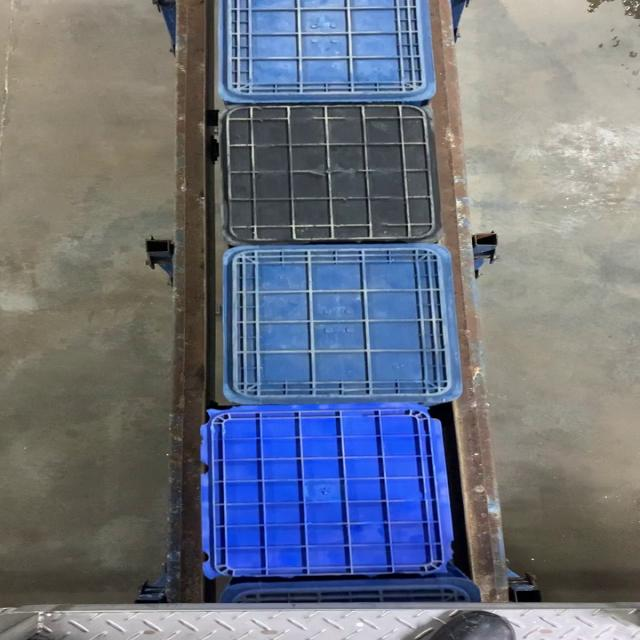Box: (219, 243, 464, 402), (216, 104, 450, 242)
Damaged_box: (196, 401, 458, 577)
